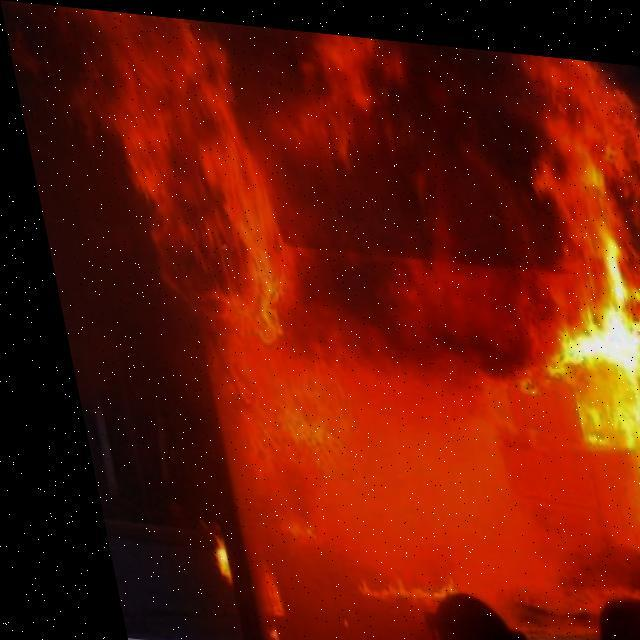Fire: (56, 14, 639, 639)
